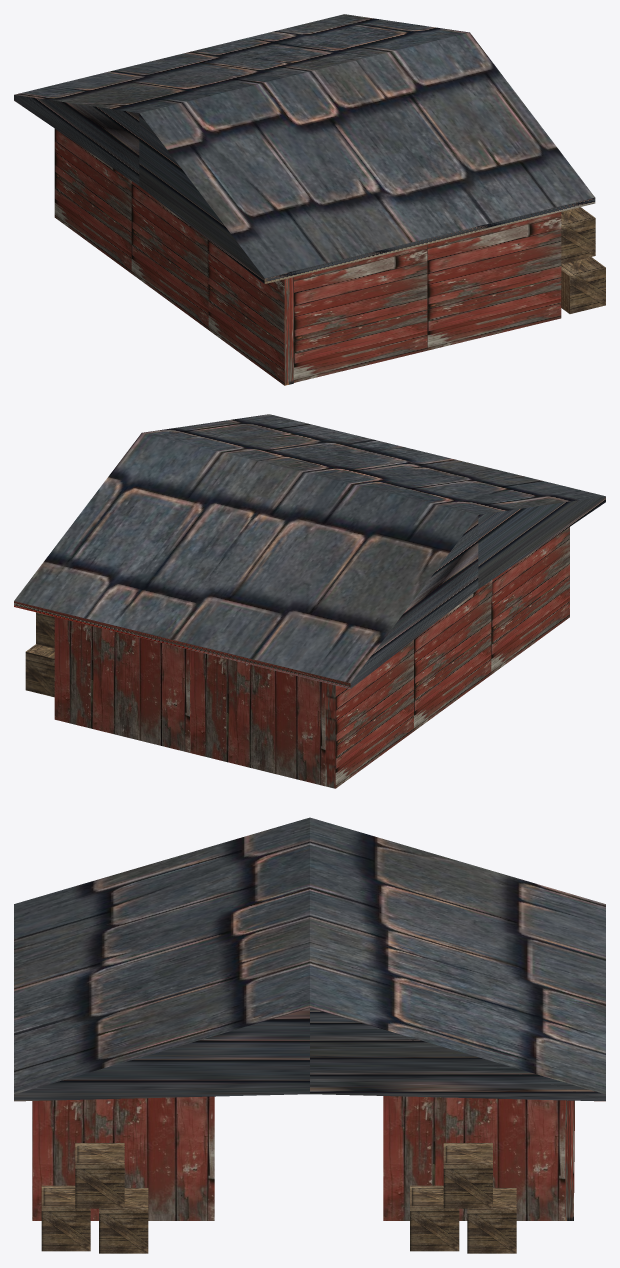
File: Cult House.fbx
The picture shows the model from 3 angles, top to bottom: view 1: azimuth 30°, elevation 25°; view 2: azimuth 150°, elevation 25°; view 3: azimuth 270°, elevation 25°; orthographic projection. The views are drawn at different scales.
Visible parts, largest first — view 1: Cube.006, Cube.001; view 2: Cube.006, Cube.004; view 3: Cube.006, Cube.001, Cube.004.
Part boxes in pixels (x1,y1,x2,y2): Cube.006: [14, 14, 595, 385]; Cube.001: [561, 207, 605, 313]; Cube.006: [14, 414, 605, 788]; Cube.004: [25, 612, 54, 697]; Cube.006: [14, 817, 605, 1220]; Cube.001: [41, 1143, 148, 1253]; Cube.004: [410, 1143, 516, 1253].
Size of the model in its own units: 3187 by 1665 by 3877.
3 materials, 3 textured.
